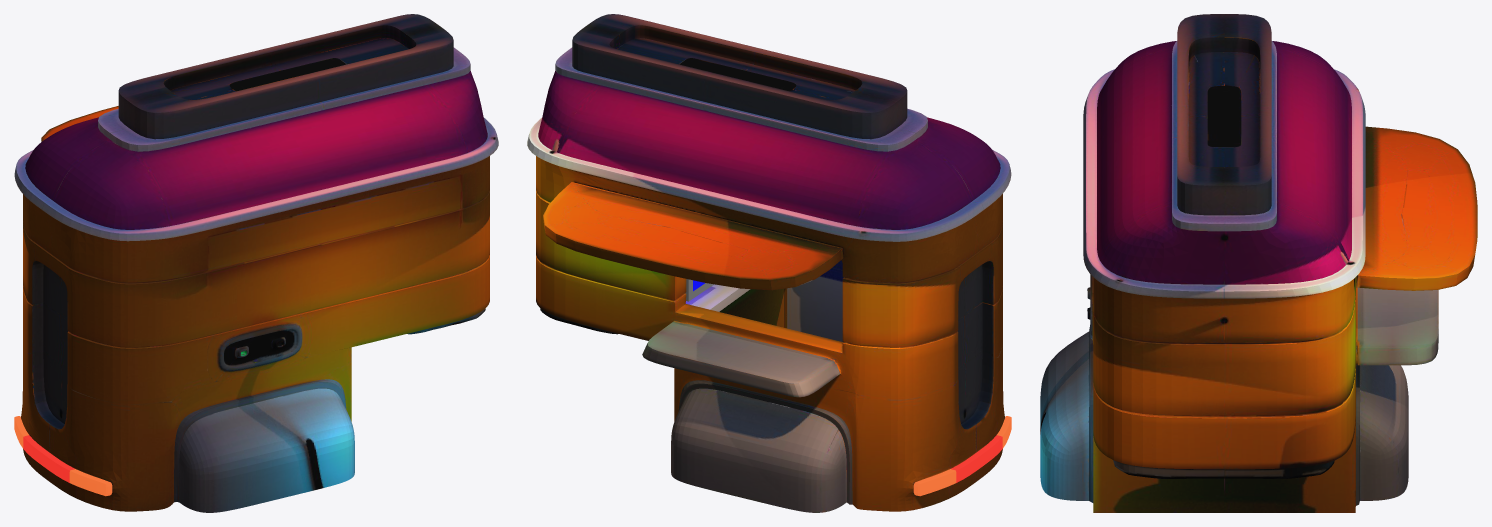
The model's file is cart.glb.
The picture shows the model from 3 angles, left to right: view 1: azimuth 30°, elevation 25°; view 2: azimuth 150°, elevation 25°; view 3: azimuth 270°, elevation 25°; orthographic projection. The views are drawn at different scales.
Visible parts, largest first — view 1: Truck; view 2: Truck; view 3: Truck.
Boxes of the visible parts, bbox=[...] form: Truck: bbox=[14, 14, 498, 512]; Truck: bbox=[527, 14, 1011, 512]; Truck: bbox=[1040, 14, 1477, 512].
Size of the model in its own units: 2.87 by 2.34 by 2.28.
Materials: 7 (1 with a texture image).
